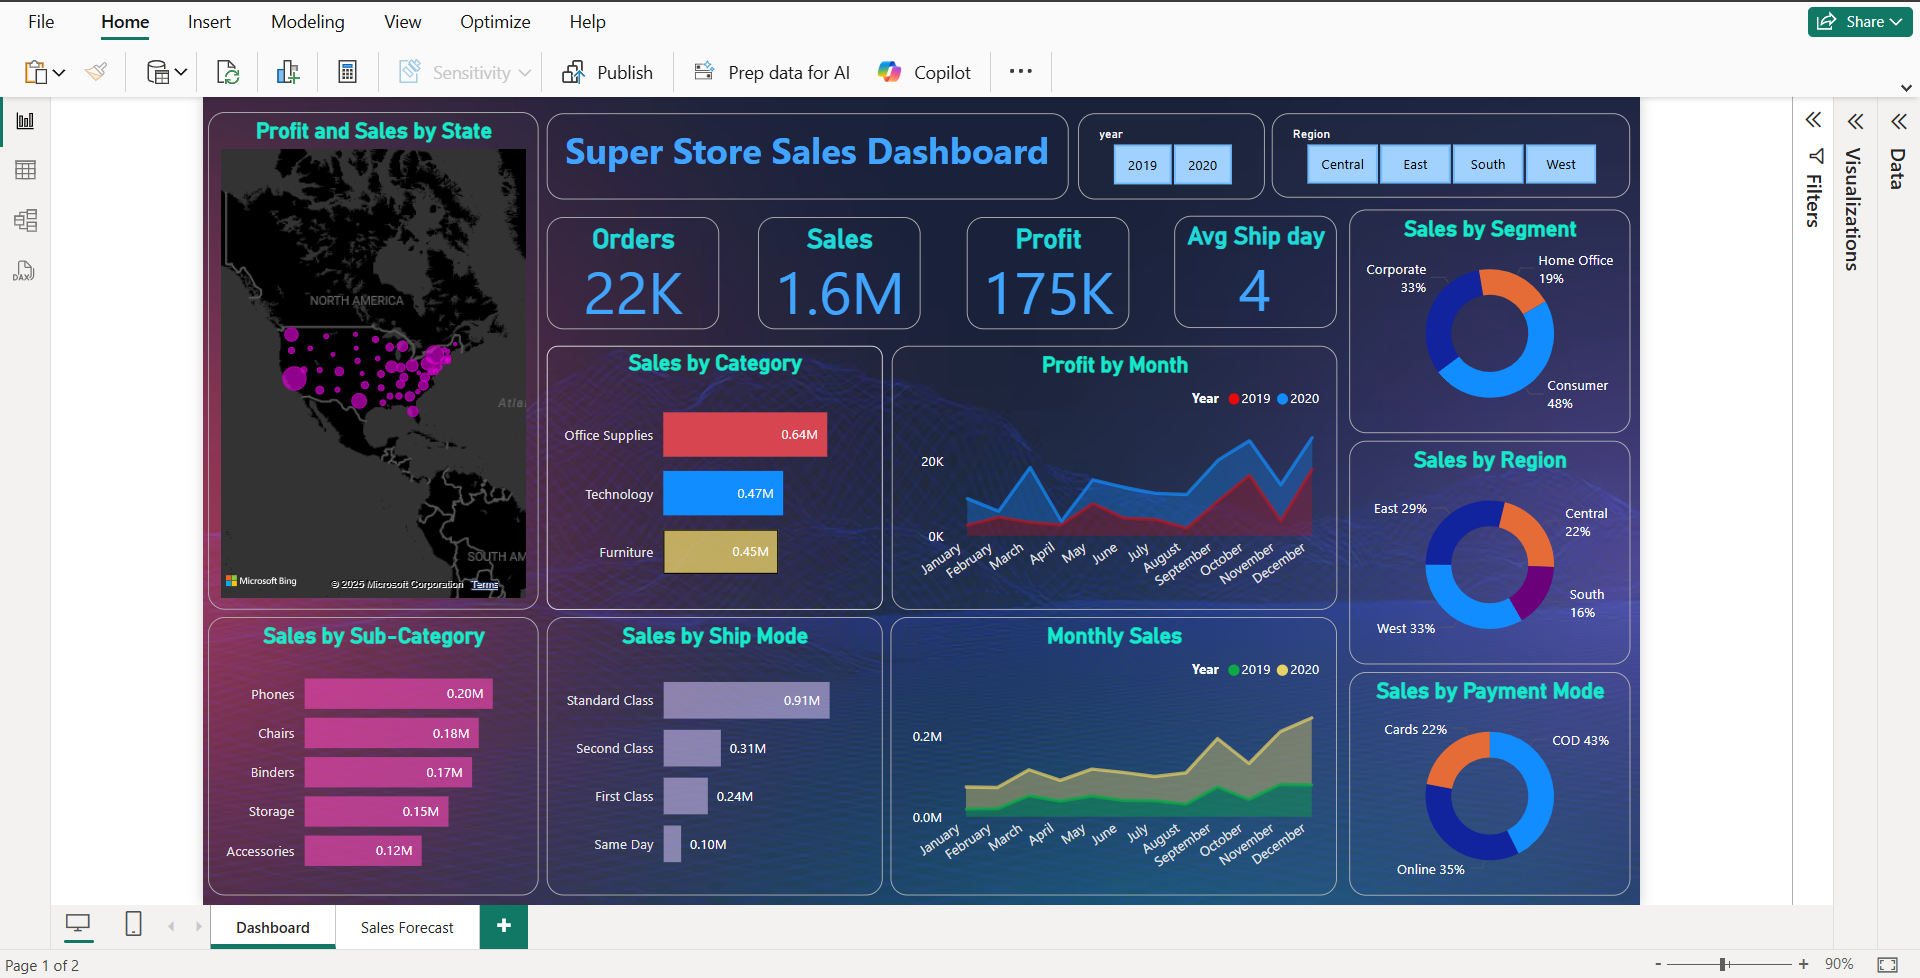

This screenshot's page, from the dashboard's own definition file:
{"tool":"powerbi","page":{"name":"Dashboard","canvas":[1280,720],"ordinal":0},"visuals":[{"type":"clusteredBarChart","title":"Sales by Category","fields":{"Category":["Sheet1.Category"],"Y":["Sum(Sheet1.Sales)"]},"box":[306.7,221.1,298.9,235.6],"z":0},{"type":"clusteredBarChart","title":"Sales by Sub-Category","fields":{"Category":["Sheet1.Sub-Category"],"Y":["Sum(Sheet1.Sales)"]},"box":[4.4,463.3,294.4,247.8],"z":1000},{"type":"barChart","title":"Sales by Ship Mode","fields":{"Category":["Sheet1.Ship Mode"],"Y":["Sum(Sheet1.Sales)"]},"box":[306.7,463.3,298.9,247.8],"z":2000},{"type":"stackedAreaChart","title":"Monthly Sales ","fields":{"Y":["Sum(Sheet1.Sales)"],"Category":["Sheet1.Order Date.Variation.Date Hierarchy.Month"],"Series":["Sheet1.Order Date.Variation.Date Hierarchy.Year"]},"box":[612.2,463.3,397.8,247.8],"z":3000},{"type":"stackedAreaChart","title":"Profit by Month","fields":{"Category":["Sheet1.Order Date.Variation.Date Hierarchy.Month"],"Series":["Sheet1.Order Date.Variation.Date Hierarchy.Year"],"Y":["Sum(Sheet1.Profit)"]},"box":[613.3,221.1,396.7,235.6],"z":4000},{"type":"map","title":"Profit and Sales by State","fields":{"Category":["Sheet1.State"],"Size":["Sum(Sheet1.Sales)"]},"box":[4.4,13.3,294.4,443.3],"z":5000},{"type":"textbox","box":[306.7,14.4,464.4,76.7],"z":6000},{"type":"slicer","fields":{"Values":["Sheet1.Region"]},"box":[952.2,14.4,318.9,75.6],"z":7000},{"type":"donutChart","title":"Sales by Payment Mode","fields":{"Y":["Sum(Sheet1.Sales)"],"Category":["Sheet1.Payment Mode"]},"box":[1021.1,512.2,250,198.9],"z":8000},{"type":"donutChart","title":"Sales by Region","fields":{"Category":["Sheet1.Region"],"Y":["Sum(Sheet1.Sales)"]},"box":[1021.1,306.7,250,198.9],"z":9000},{"type":"donutChart","title":"Sales by Segment","fields":{"Y":["Sum(Sheet1.Sales)"],"Category":["Sheet1.Segment"]},"box":[1021.1,100,250,198.9],"z":10000},{"type":"card","title":"Orders","fields":{"Values":["Sum(Sheet1.Quantity)"]},"box":[306.7,106.7,153.3,100],"z":11000},{"type":"card","title":"Avg Ship day","fields":{"Values":["Avg(Sheet1.ship_day)"]},"box":[865,106.2,145,100],"z":12000},{"type":"card","title":"Sales","fields":{"Values":["Sum(Sheet1.Sales)"]},"box":[494.4,106.7,144.4,100],"z":13000},{"type":"card","title":"Profit","fields":{"Values":["Sum(Sheet1.Profit)"]},"box":[680,106.7,144.4,100],"z":14000},{"type":"slicer","fields":{"Values":["Sheet1.year"]},"box":[778.9,14.4,166.7,76.7],"z":15000}]}

Visuals, with their boxes on the page's 1280x720 design canvas (x1, y1, x2, y2). These are canvas units, not pixel positions in the 1920x978 screenshot, which may show the page scaled, cropped or inside an application window:
"Sales by Category" clusteredBarChart: box=[307, 221, 606, 457]
"Sales by Sub-Category" clusteredBarChart: box=[4, 463, 299, 711]
"Sales by Ship Mode" barChart: box=[307, 463, 606, 711]
"Monthly Sales " stackedAreaChart: box=[612, 463, 1010, 711]
"Profit by Month" stackedAreaChart: box=[613, 221, 1010, 457]
"Profit and Sales by State" map: box=[4, 13, 299, 457]
textbox: box=[307, 14, 771, 91]
slicer - Sheet1.Region: box=[952, 14, 1271, 90]
"Sales by Payment Mode" donutChart: box=[1021, 512, 1271, 711]
"Sales by Region" donutChart: box=[1021, 307, 1271, 506]
"Sales by Segment" donutChart: box=[1021, 100, 1271, 299]
"Orders" card: box=[307, 107, 460, 207]
"Avg Ship day" card: box=[865, 106, 1010, 206]
"Sales" card: box=[494, 107, 639, 207]
"Profit" card: box=[680, 107, 824, 207]
slicer - Sheet1.year: box=[779, 14, 946, 91]
